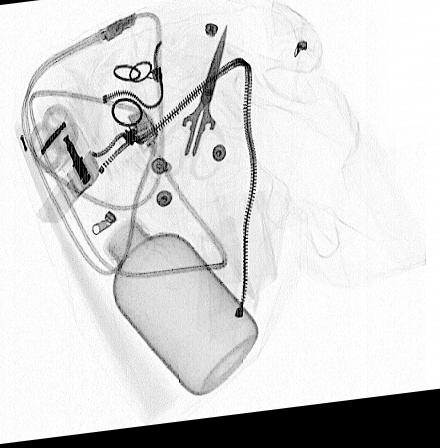Scissors: (149, 24, 230, 188)
